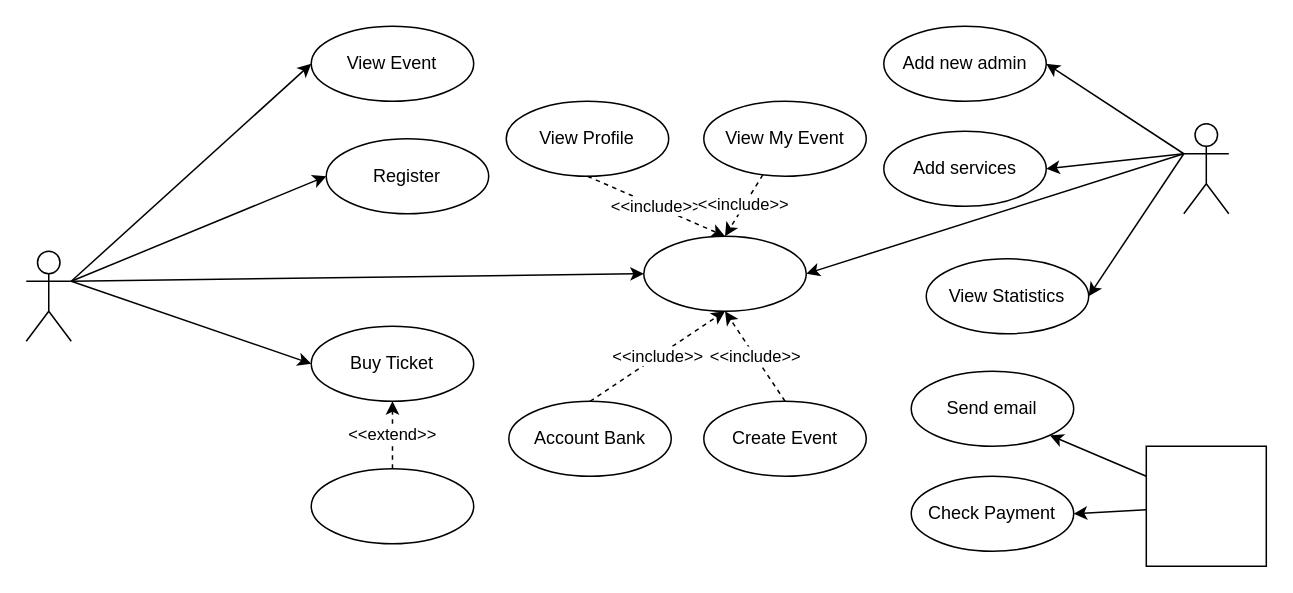
The diagram is 1293 pixels wide and 593 high, and some of its shapes have lost their labels. The box of each missing label's shape, as (x1, y1, x2, y2) in pixels:
<< Actor >> System: (1145, 445, 1266, 566)
Admin: (1182, 122, 1229, 214)
Authenticate: (642, 235, 806, 311)
Payment gateway: (310, 467, 474, 544)
User: (25, 250, 71, 341)
